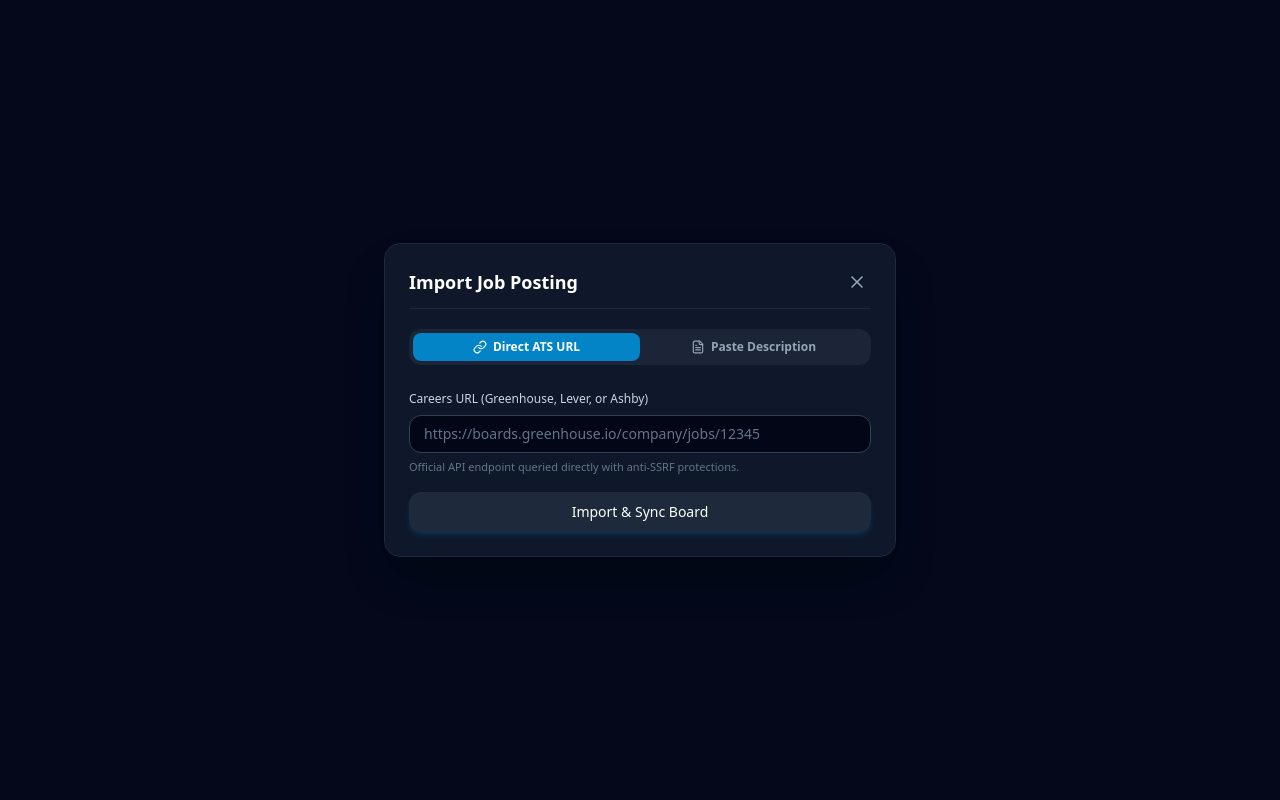
Test: AddJobModal component › renders modal when open and switches between URL and Paste tabs
Expected: the heading "Import Job Posting" is shown, [409,268,578,296]
Expected: the button "Direct ATS URL" is shown, [413,333,640,361]
Switch to paste tab
Click the button "Paste Description": x=754, y=347 [640,333,867,361]
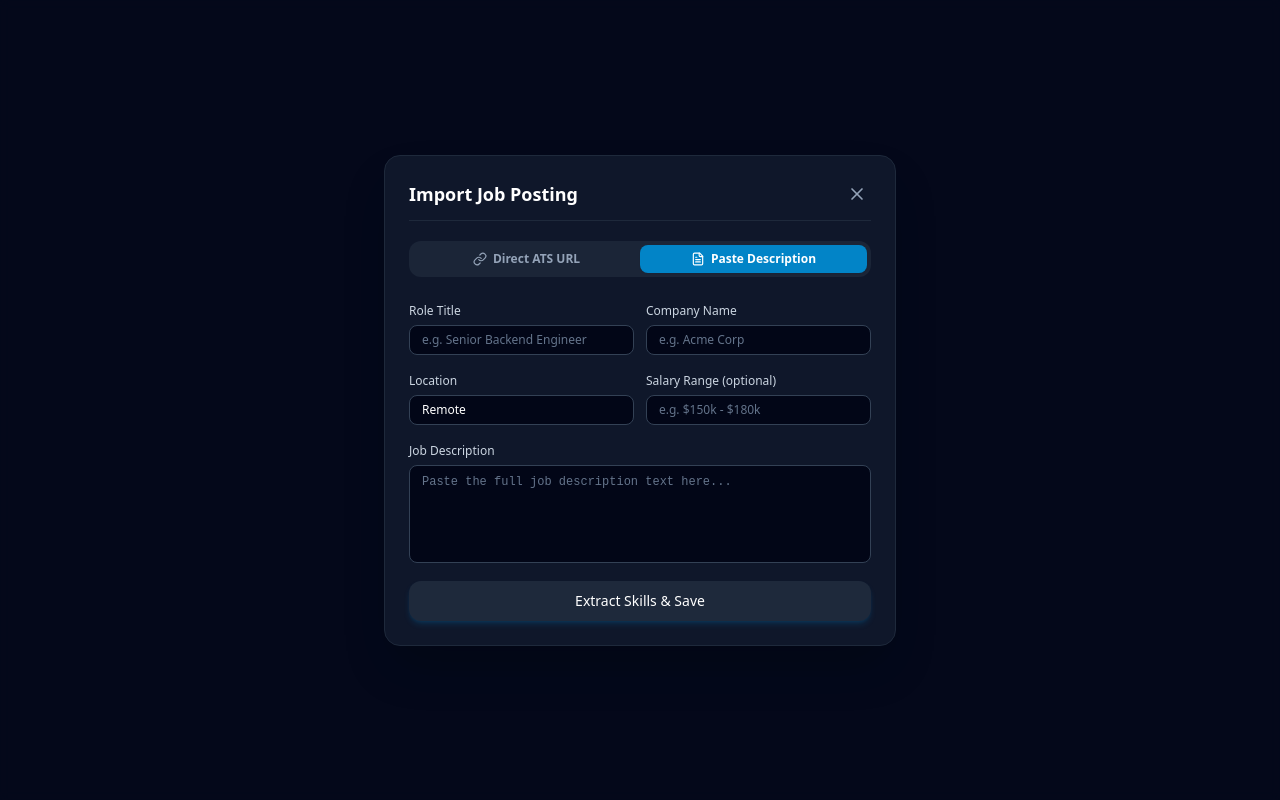
Now the text "Job Description" is shown, box [409,442,495,458]
Now the text "Role Title" is shown, box [409,302,461,318]
